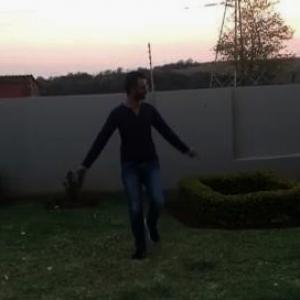land: (55, 61, 217, 286)
